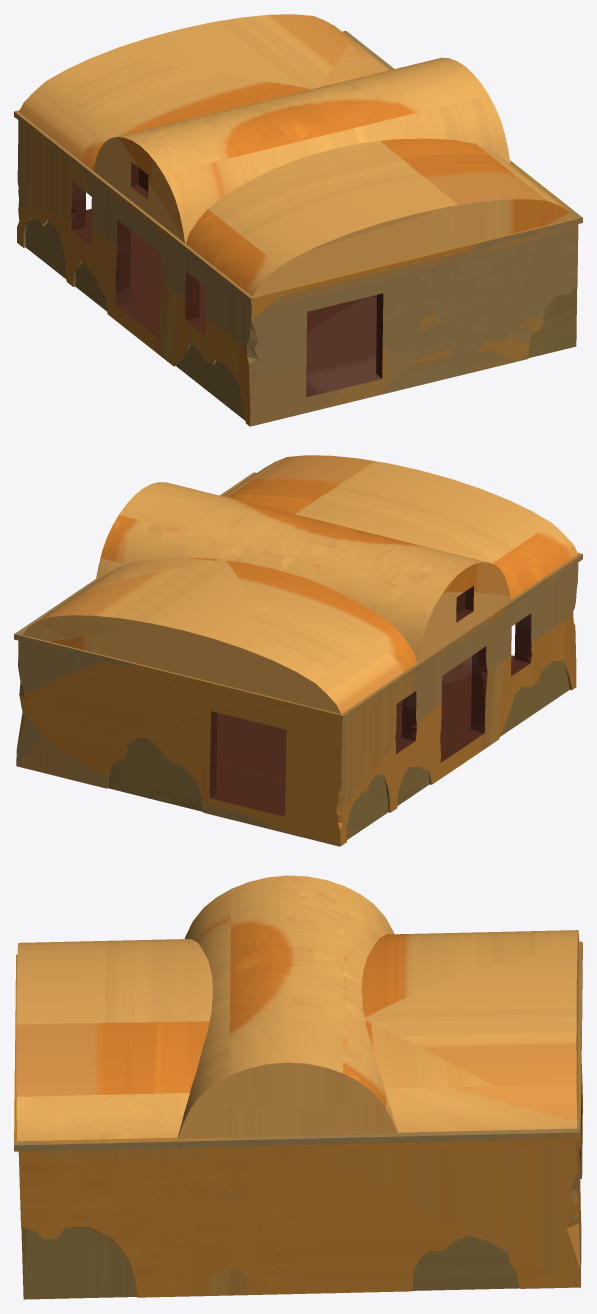
Rendered from Tunisia_Building_B.fbx.
The picture shows the model from 3 angles, top to bottom: view 1: azimuth 30°, elevation 25°; view 2: azimuth 150°, elevation 25°; view 3: azimuth 270°, elevation 25°; orthographic projection. The views are drawn at different scales.
Visible parts, largest first — view 1: Tunisia_House_B; view 2: Tunisia_House_B; view 3: Tunisia_House_B.
Boxes of the visible parts, box(x1,y1,x2,y2) form: Tunisia_House_B: box(14, 14, 582, 426); Tunisia_House_B: box(14, 455, 582, 846); Tunisia_House_B: box(14, 875, 582, 1299).
Bounding box in the file's own units: 804 × 463 × 1003.
